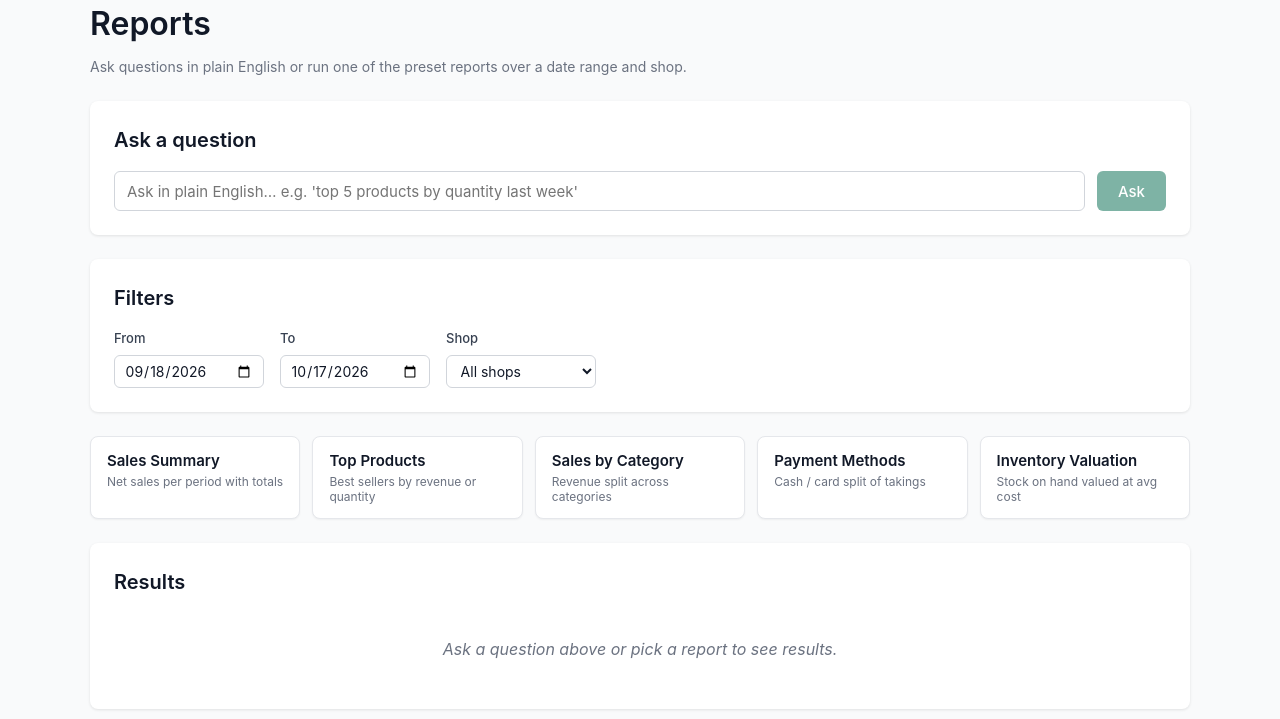
Test: Reports page › shows the server 400 message listing supported topics in an error banner
Step 1. Replace the text in the field with placeholder "Ask in plain English" with "who is the best cashier" → point(600, 191), box [114,171,1085,211]
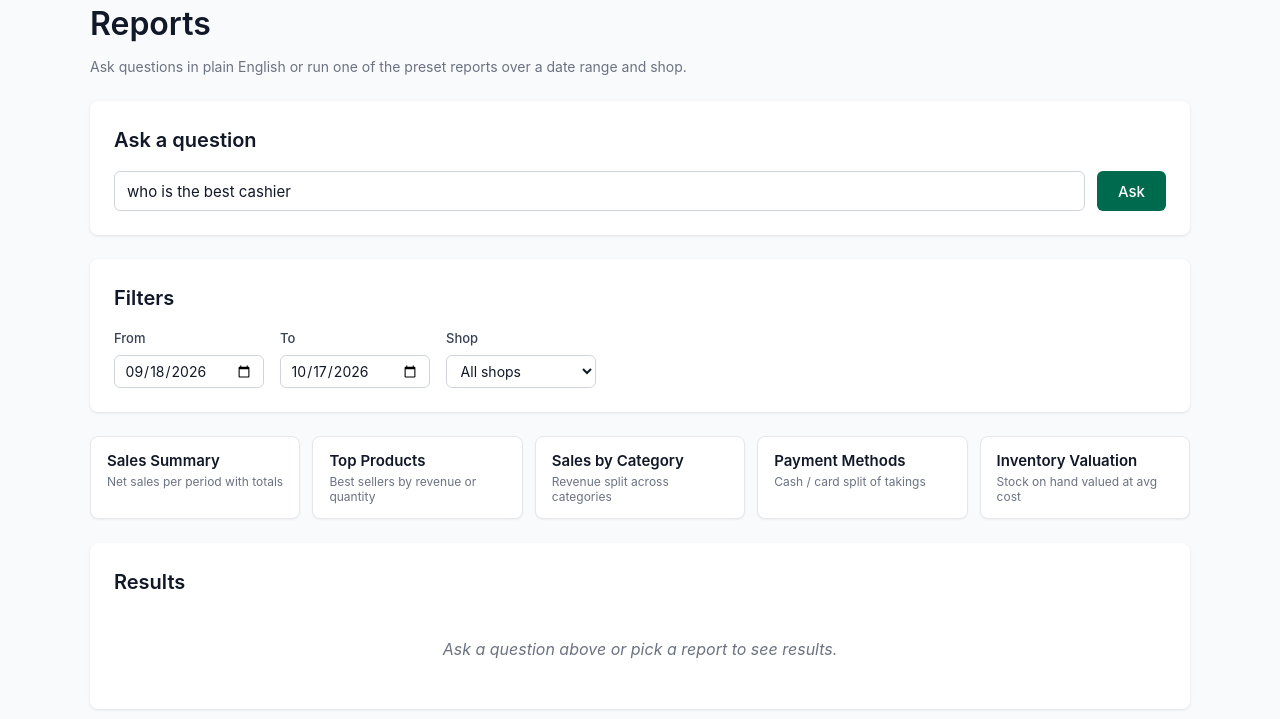
Step 2. Click the button "Ask" → point(1132, 191), box [1097,171,1166,211]
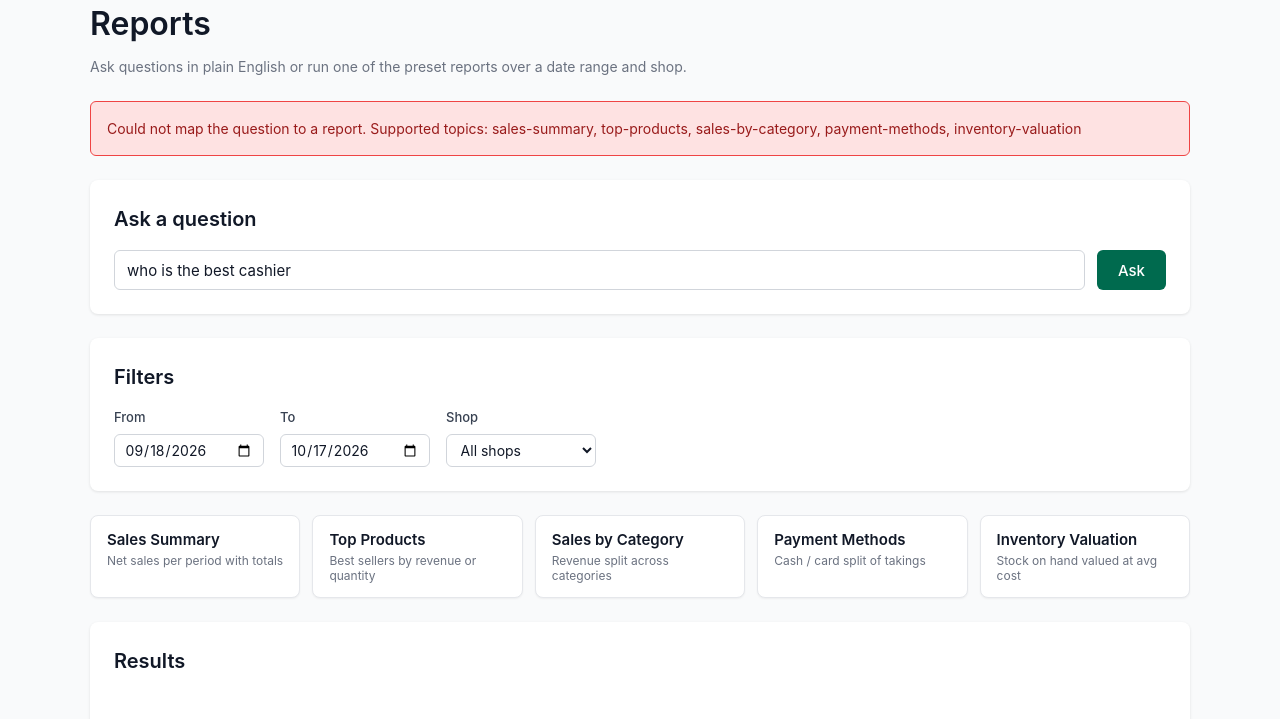
Check: the message shows "Supported topics", box [107,120,1082,137]
Check: the message shows "inventory-valuation", box [107,120,1082,137]
